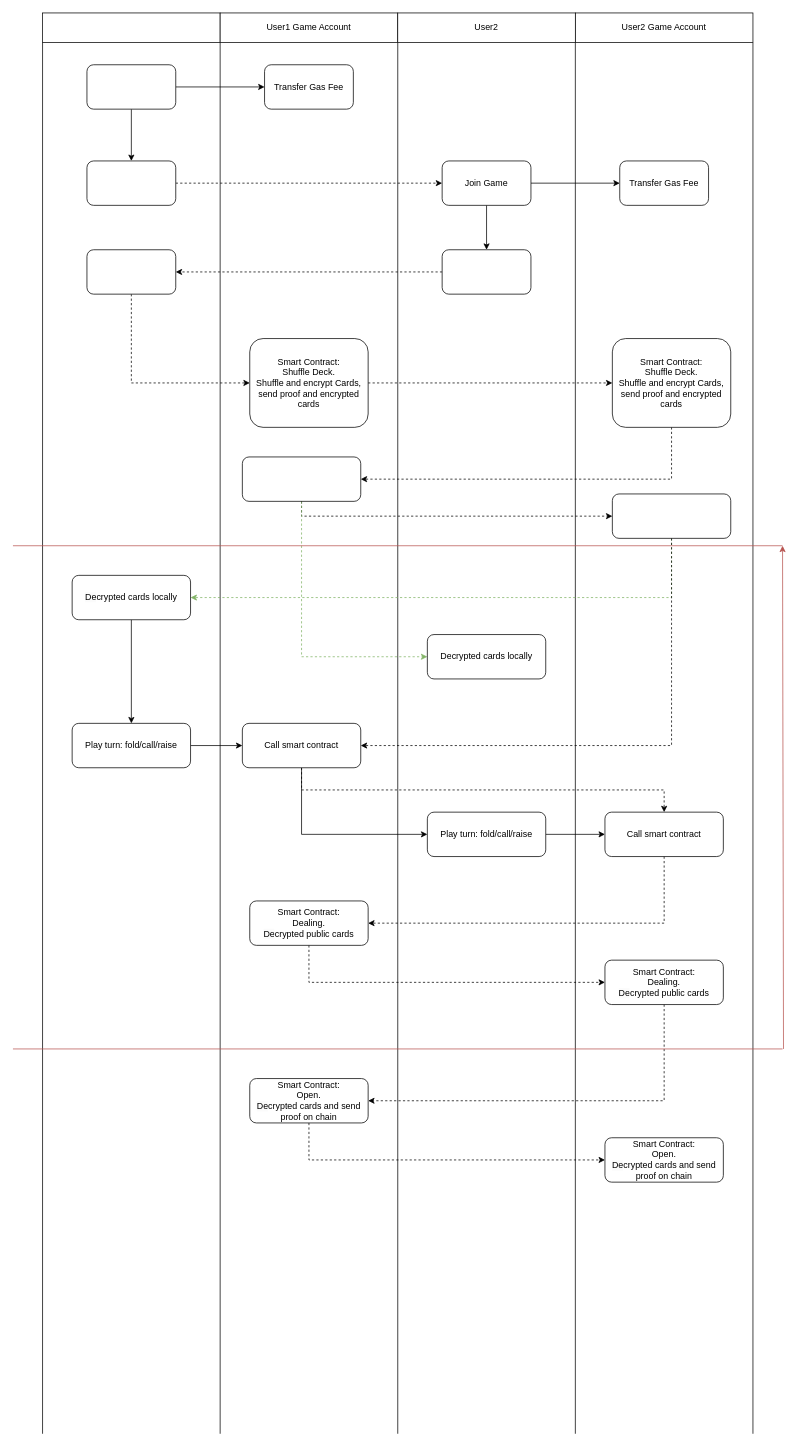
This 803x1447 diagram has some shape labels left out. Each missing label, with the centre of its shape:
Create Game: (131,86)
Smart Contract: Create Board, Input: pkX, pkY, Output: GameId: (131,182)
Smart Contract: Dealing. De crypted user1's hand cards: (671,515)
Smart Contract: Dealing. De crypted user2's hand cards: (301,478)
Smart Contract: Join Game, Input: pkX, pkY, GameId: (486,271)
Smart Contract: Start Game: (131,271)
User1: (131,27)
